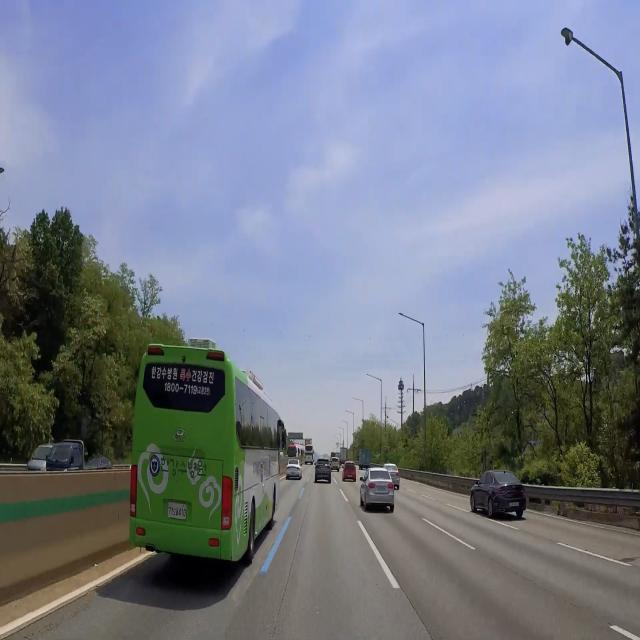car: (166, 501, 187, 523), (508, 498, 522, 515), (375, 483, 389, 497)
